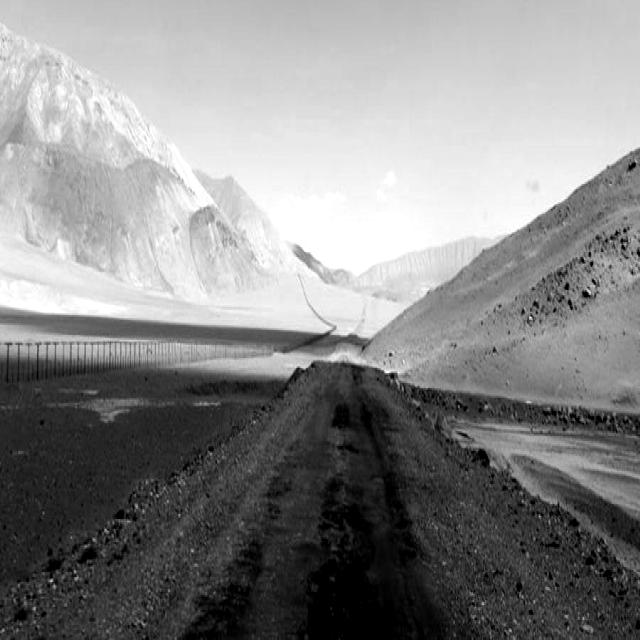cleat: (67, 256, 640, 640)
